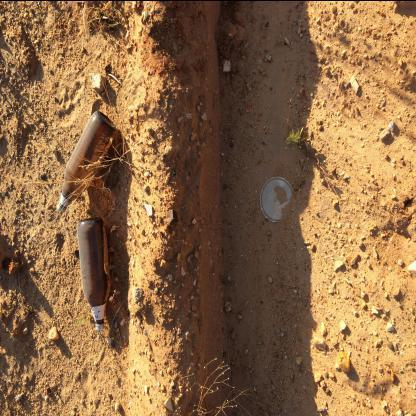cam: (58, 110, 118, 213), (78, 217, 112, 332)
metal: (261, 176, 296, 224)
